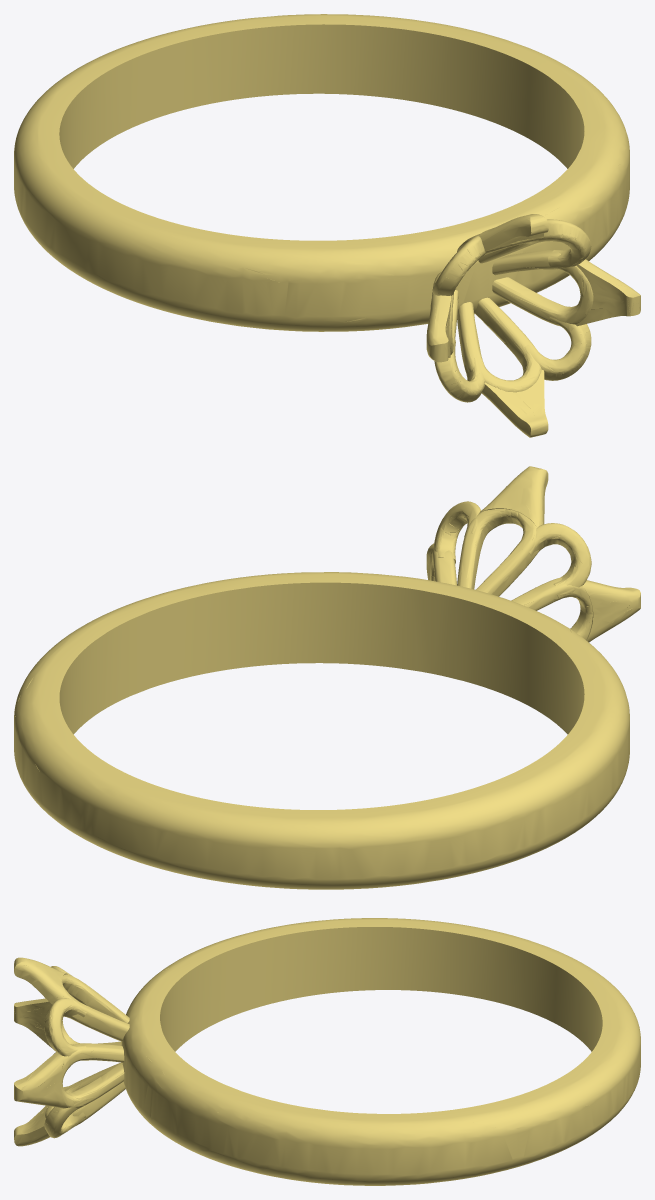
3 views of the same model, one above another, from view 1: azimuth 30°, elevation 25°; view 2: azimuth 150°, elevation 25°; view 3: azimuth 270°, elevation 25° (orthographic). The views are drawn at different scales.
Visible parts, largest first — view 1: lr-0007; view 2: lr-0007; view 3: lr-0007.
Boxes of the visible parts, x1,y1,x2,y2 form: lr-0007: (14,14,640,437); lr-0007: (14,466,640,889); lr-0007: (14,918,640,1185).
Bounding box in the file's own units: 0.8285 × 0.3251 × 1.
